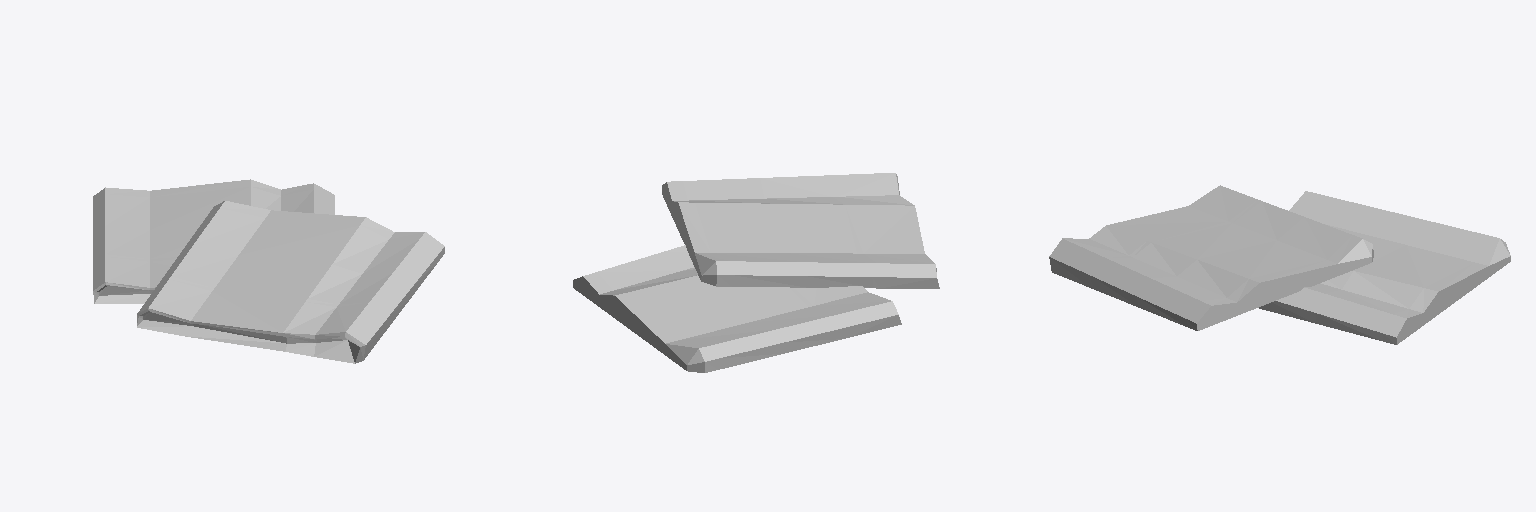
Rendered from clothes_002.obj.
3 views of the same model, side by side, from view 1: azimuth 30°, elevation 25°; view 2: azimuth 150°, elevation 25°; view 3: azimuth 270°, elevation 25° (orthographic).
Parts seen in each view (by area): view 1: clothes_002; view 2: clothes_002; view 3: clothes_002.
Part boxes in pixels (bbox=[...]): clothes_002: bbox=[93, 179, 444, 363]; clothes_002: bbox=[573, 173, 939, 372]; clothes_002: bbox=[1049, 185, 1510, 344].
Bounding box in the file's own units: 0.5952 × 0.087 × 0.8055.